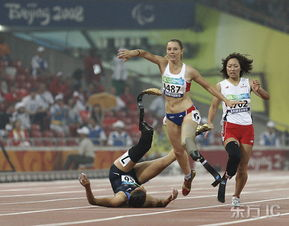10+: (1, 35, 284, 213)
down: (74, 85, 218, 210)
